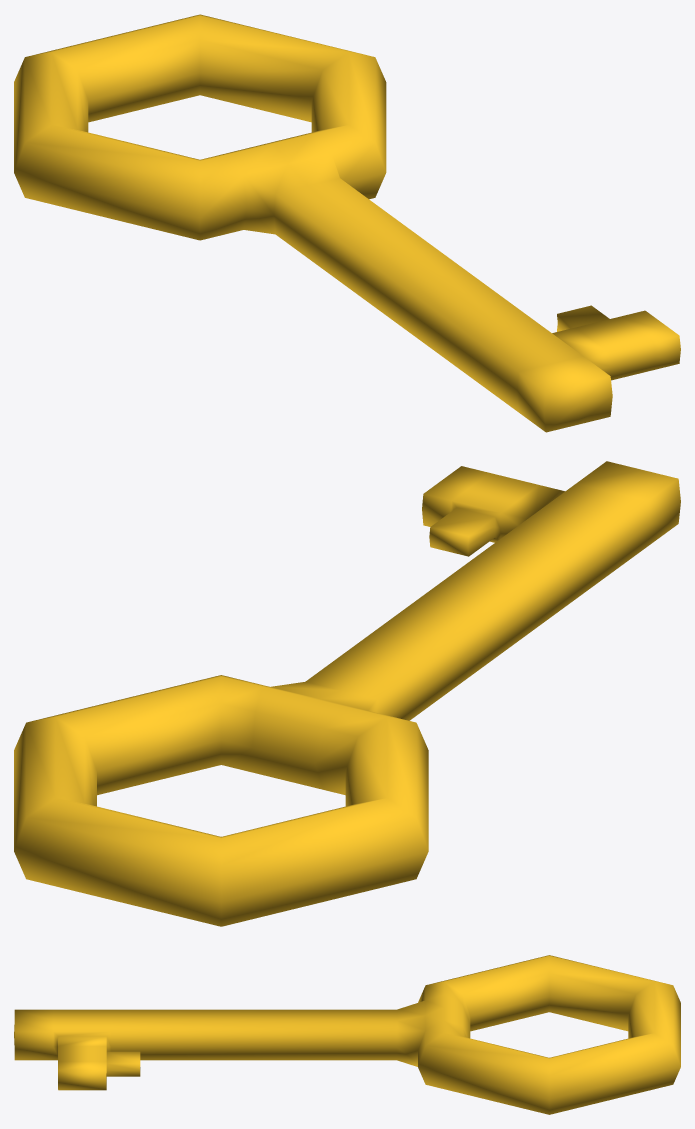
The model's file is LPKey.glb.
The picture shows the model from 3 angles, top to bottom: view 1: azimuth 30°, elevation 25°; view 2: azimuth 150°, elevation 25°; view 3: azimuth 270°, elevation 25°; orthographic projection. The views are drawn at different scales.
Parts seen in each view (by area): view 1: Key; view 2: Key; view 3: Key.
Boxes of the visible parts, left/top/right/bottom form: Key: left=14, top=14, right=680, bottom=432; Key: left=14, top=461, right=680, bottom=926; Key: left=14, top=955, right=680, bottom=1114.
Size of the model in its own units: 2.5 by 0.5 by 5.49.
